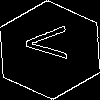V: (25, 25, 78, 61)
